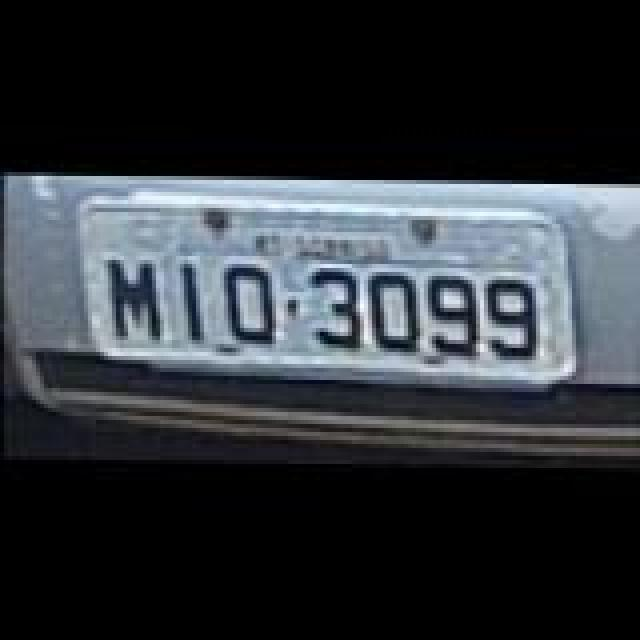1: (166, 256, 214, 340)
3: (302, 264, 374, 344)
9: (478, 274, 550, 358), (418, 268, 490, 352)
D: (362, 270, 434, 350)
M: (102, 254, 174, 338)
O: (214, 262, 286, 342)
